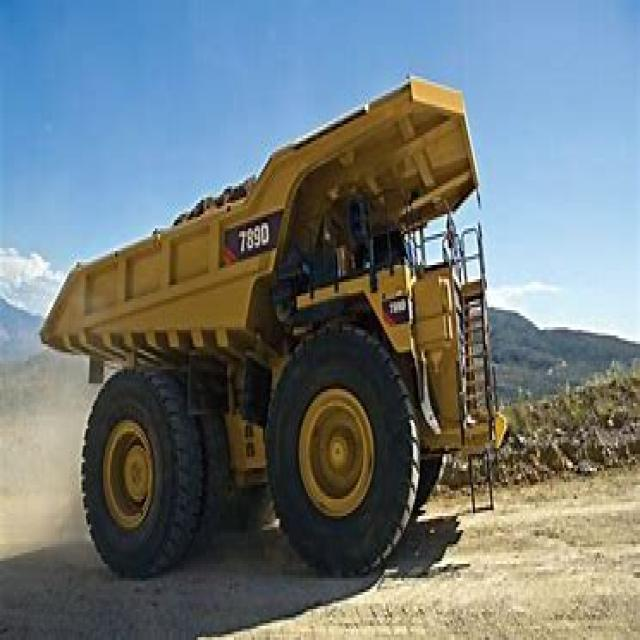dump_truck: (50, 65, 518, 598)
